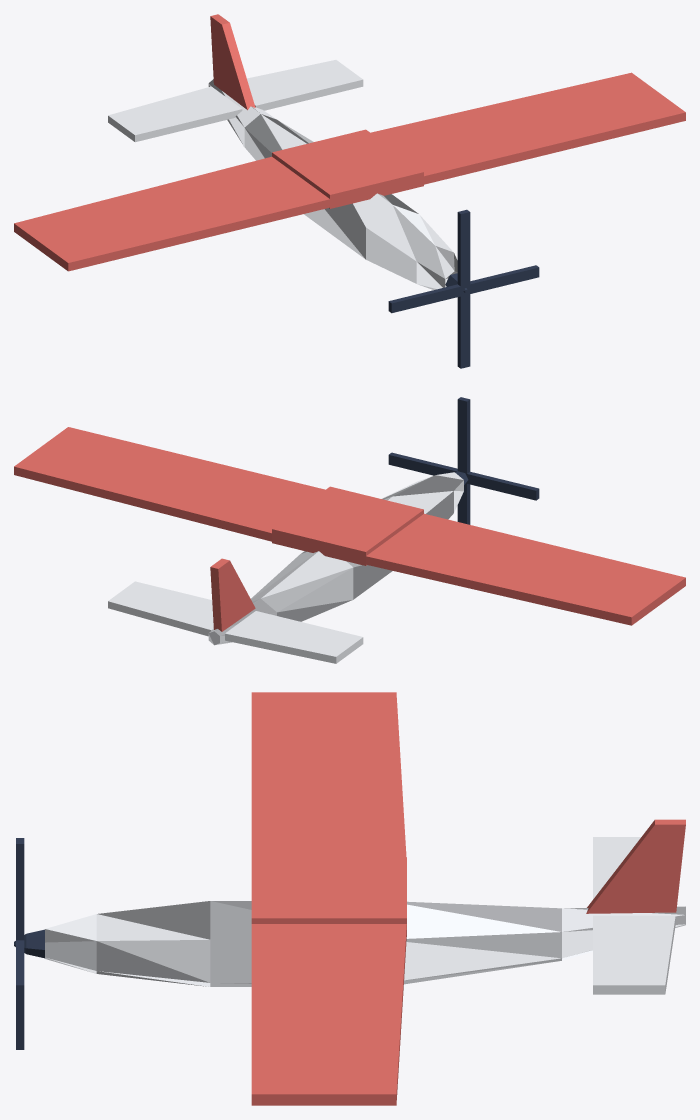
File: Plane_Prop.obj
3 views of the same model, one above another, from view 1: azimuth 30°, elevation 25°; view 2: azimuth 150°, elevation 25°; view 3: azimuth 270°, elevation 25° (orthographic). The views are drawn at different scales.
Parts seen in each view (by area): view 1: WingL, WingR, Fuselage, WingRoot, TailplaneL, Propeller, TailplaneR, Fin; view 2: WingL, WingR, Fuselage, WingRoot, TailplaneL, TailplaneR, Propeller, Fin; view 3: WingR, Fuselage, WingL, WingRoot, TailplaneR, Fin, Propeller, TailplaneL.
Boxes of the visible parts, x1=… form: WingL: x1=14, y1=156, x2=329, y2=271; WingR: x1=371, y1=72, x2=685, y2=184; Fuselage: x1=208, y1=79, x2=457, y2=289; WingRoot: x1=272, y1=129, x2=423, y2=208; TailplaneL: x1=108, y1=86, x2=242, y2=142; Propeller: x1=388, y1=209, x2=539, y2=368; TailplaneR: x1=247, y1=60, x2=363, y2=110; Fin: x1=210, y1=14, x2=255, y2=110; WingL: x1=366, y1=513, x2=685, y2=625; WingR: x1=14, y1=427, x2=325, y2=541; Fuselage: x1=208, y1=472, x2=463, y2=645; WingRoot: x1=272, y1=486, x2=423, y2=565; TailplaneL: x1=225, y1=611, x2=363, y2=663; TailplaneR: x1=108, y1=581, x2=213, y2=636; Propeller: x1=388, y1=397, x2=539, y2=524; Fin: x1=210, y1=558, x2=255, y2=631; WingR: x1=251, y1=924, x2=406, y2=1105; Fuselage: x1=45, y1=901, x2=685, y2=986; WingL: x1=251, y1=692, x2=406, y2=857; WingRoot: x1=251, y1=857, x2=406, y2=936; TailplaneR: x1=593, y1=915, x2=675, y2=994; Fin: x1=586, y1=819, x2=685, y2=913; Propeller: x1=16, y1=838, x2=24, y2=1049; TailplaneL: x1=593, y1=837, x2=640, y2=899.
Bounding box in the file's own units: 9.2 × 2.4 × 6.5.
